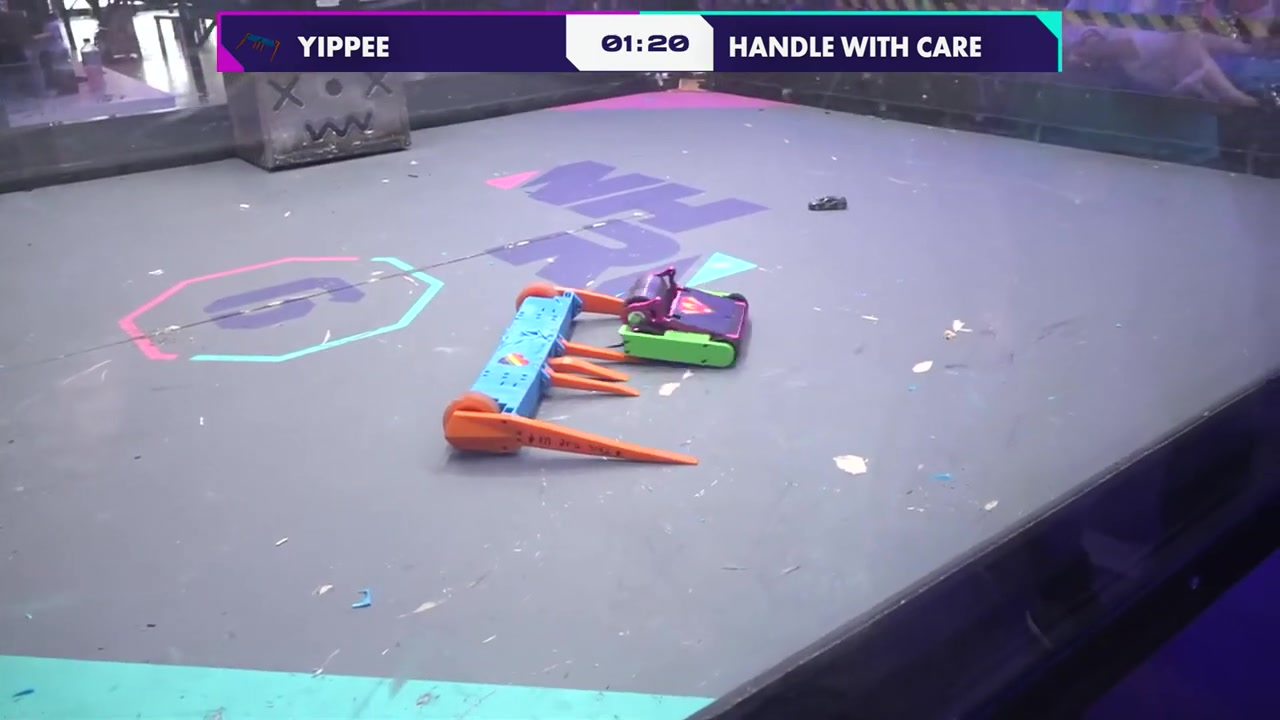combatbot: (441, 287, 702, 471), (617, 265, 749, 370)
debris: (808, 190, 846, 215), (352, 589, 374, 610)
housebot: (227, 74, 413, 174)
